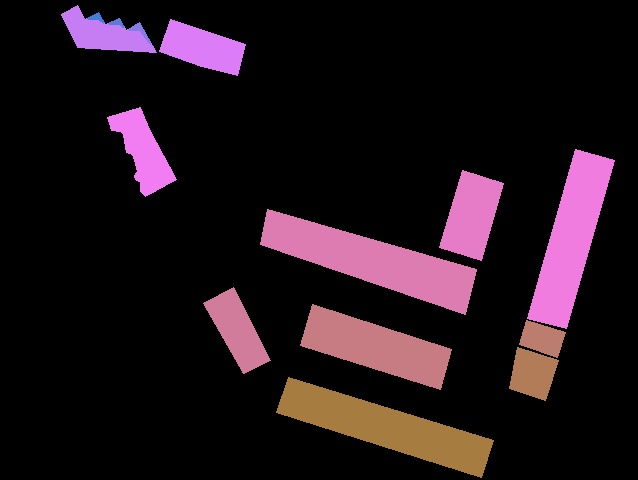parkingspot: (260, 209, 476, 314), (276, 377, 493, 477), (527, 149, 614, 328), (300, 304, 451, 389), (107, 107, 176, 196), (203, 287, 270, 373), (439, 170, 503, 260), (159, 19, 245, 75), (61, 5, 156, 52), (509, 347, 558, 400), (519, 320, 565, 357)
